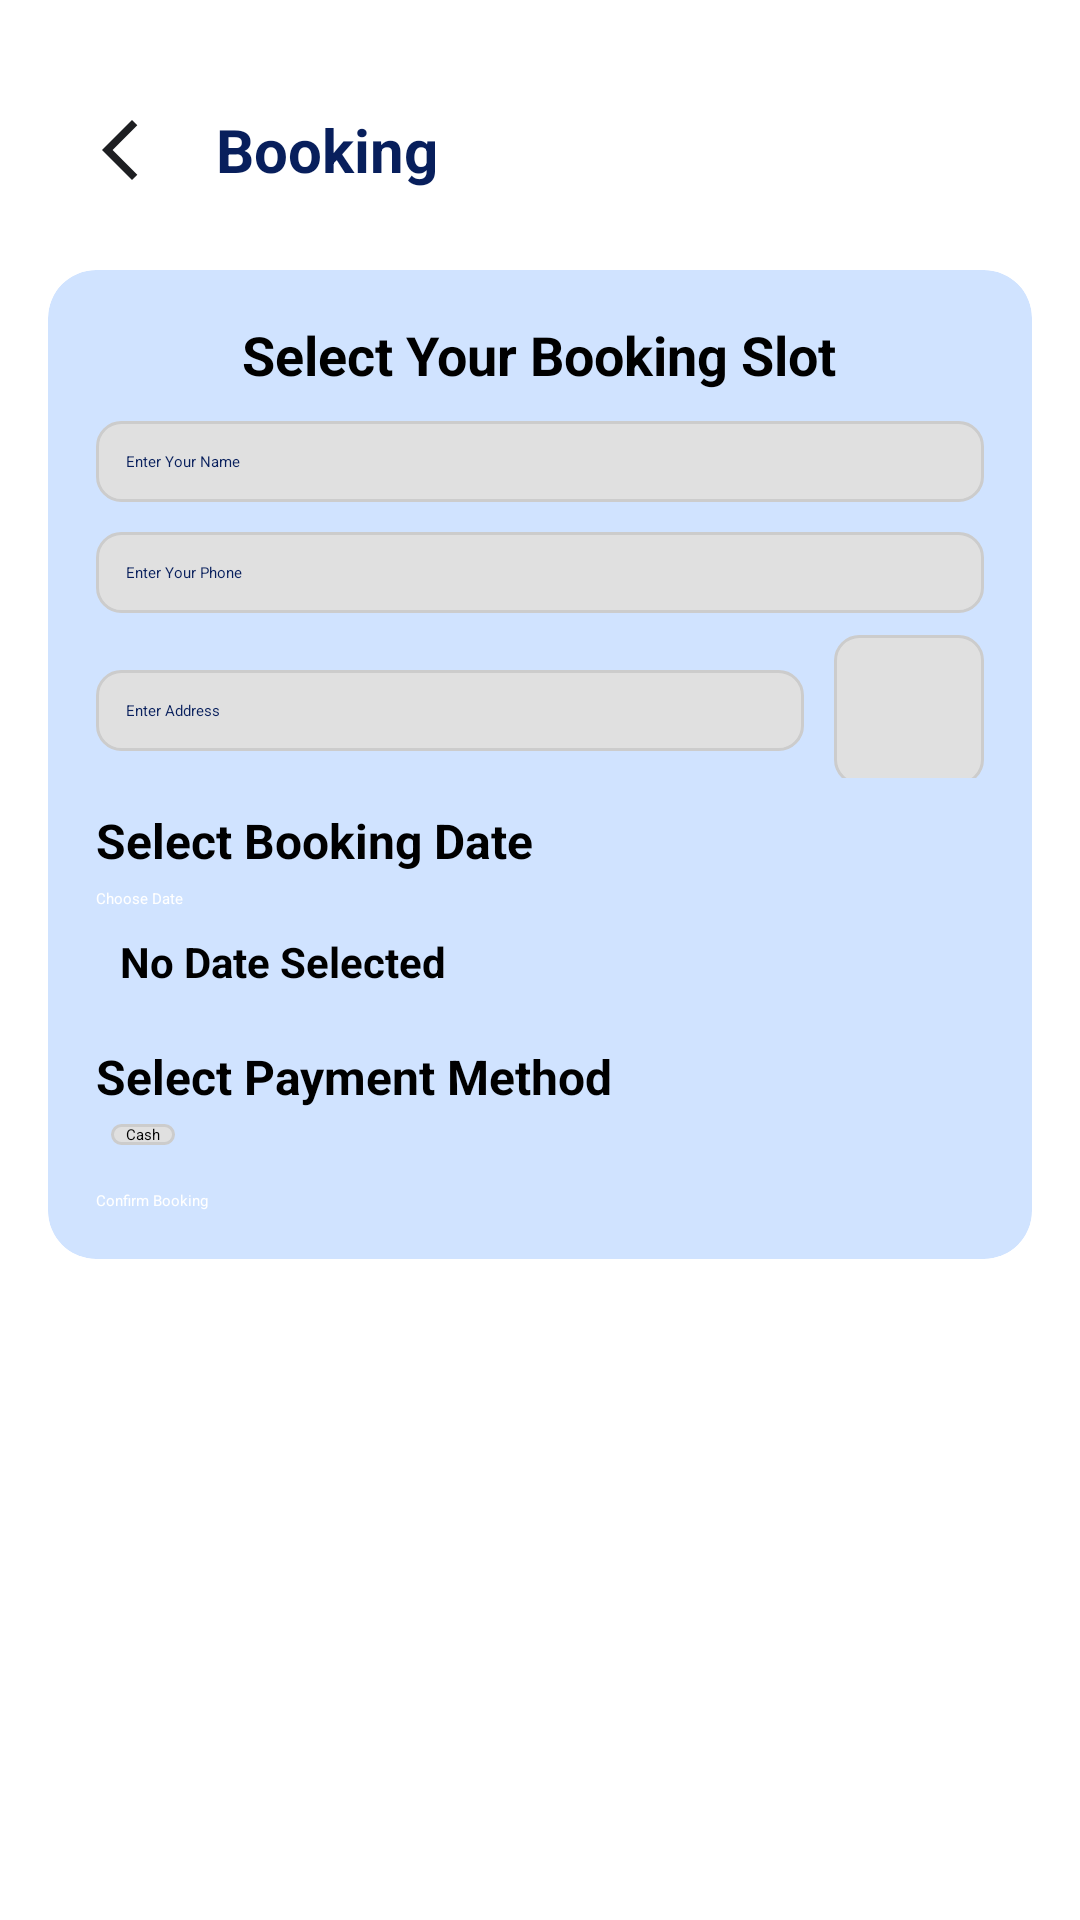

Icon click points for this 1080w x 1920h phone screenshot, format (x=x, y=y):
back arrow: (x=119, y=150)
